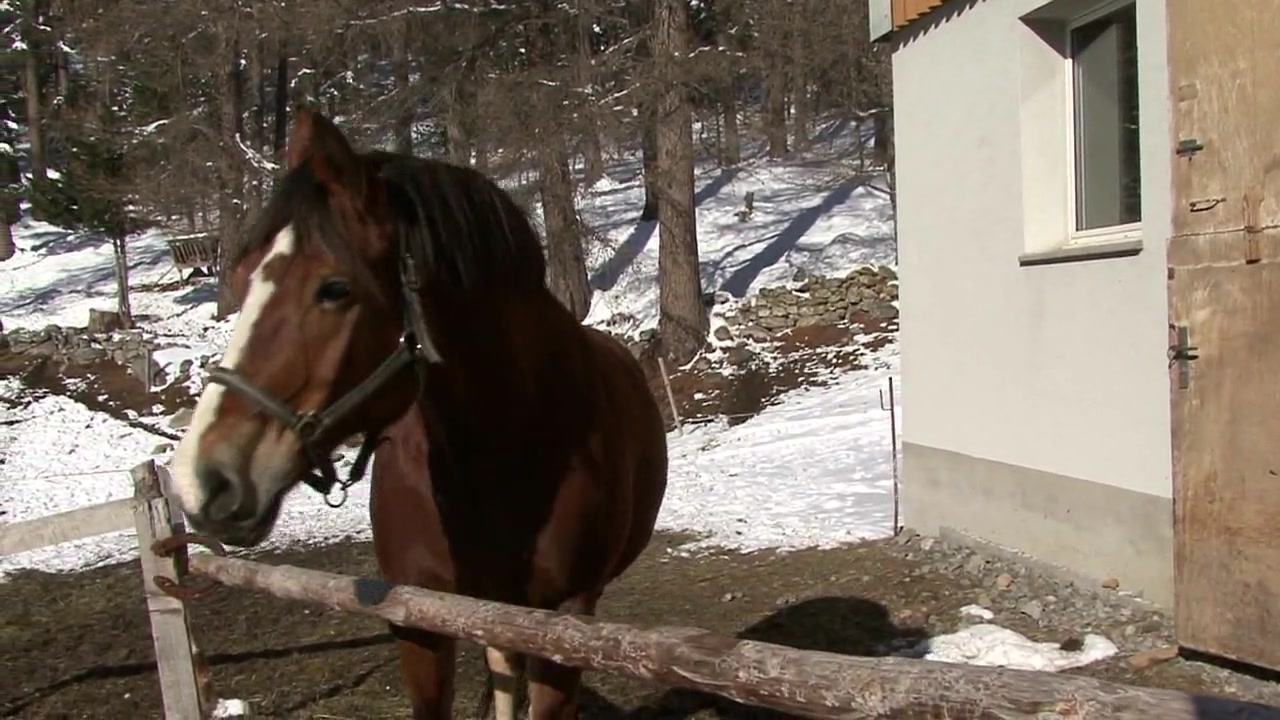horse: (167, 95, 670, 717)
